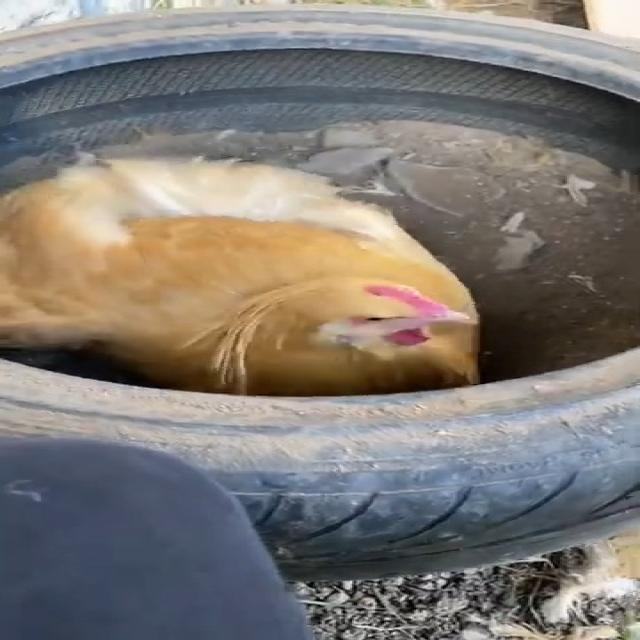stand bath: (0, 100, 572, 412)
